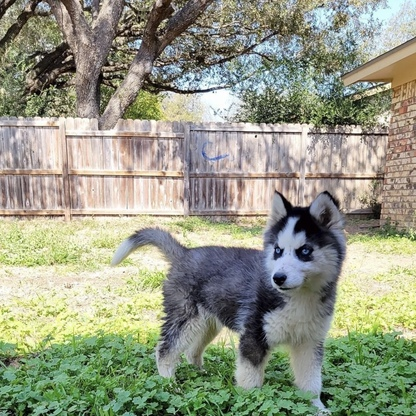husky: (104, 186, 353, 416)
